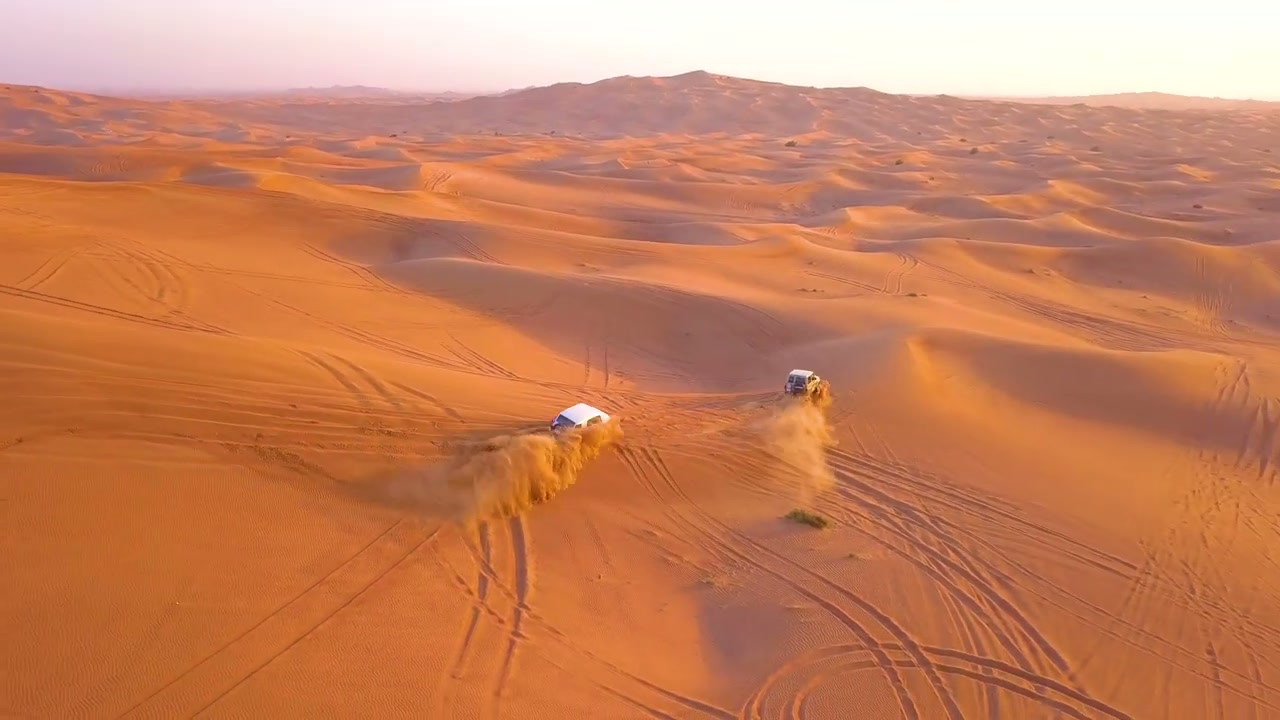vehicle_track: (846, 453, 1211, 679), (620, 448, 919, 719), (815, 448, 1100, 706), (815, 458, 1089, 706), (116, 519, 439, 719), (823, 458, 1082, 691), (1115, 361, 1279, 717), (192, 527, 440, 717), (3, 365, 432, 451), (968, 534, 1206, 677), (521, 594, 733, 719), (919, 260, 1212, 350), (226, 281, 482, 374), (433, 515, 530, 717), (922, 645, 1129, 719), (433, 522, 503, 715), (94, 235, 231, 333), (614, 279, 790, 353), (152, 248, 406, 295), (0, 284, 228, 334), (491, 514, 532, 719), (301, 243, 407, 294), (806, 253, 918, 294), (296, 349, 371, 409), (329, 353, 404, 409), (14, 242, 97, 289), (448, 333, 521, 380), (1195, 256, 1232, 336), (389, 381, 462, 421), (450, 232, 505, 264), (806, 270, 879, 292), (881, 253, 918, 293), (583, 339, 610, 388)
